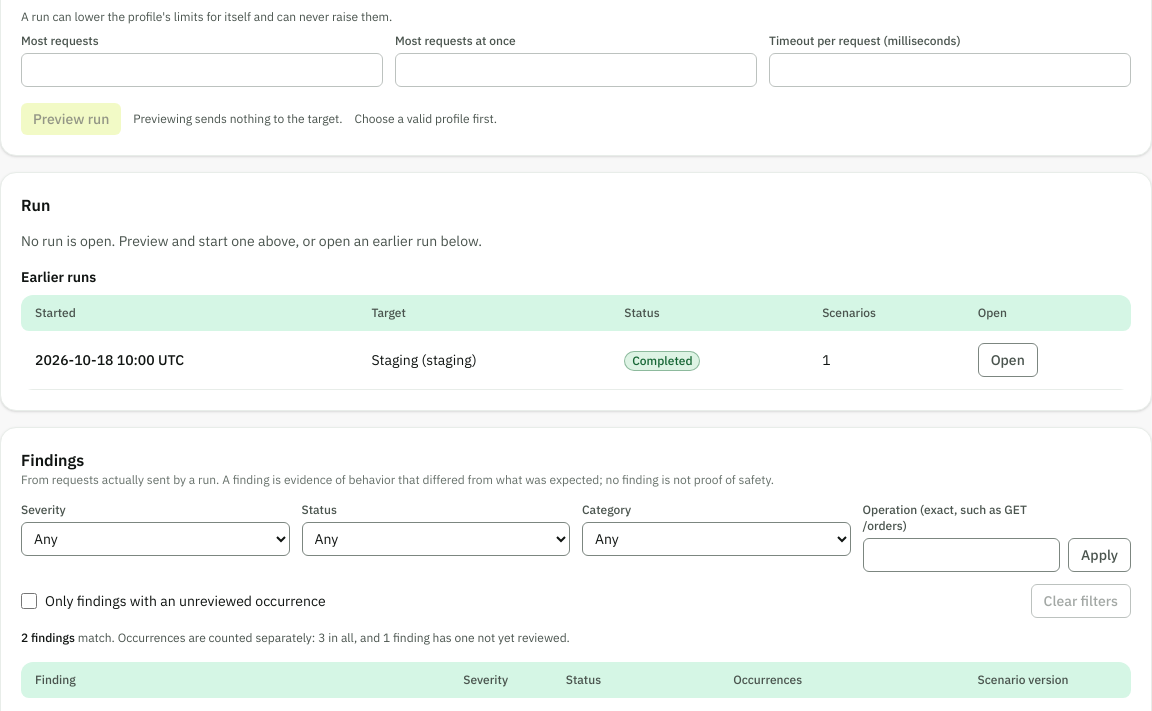
it: ExecutionArea findings (T124, FR-054 to FR-059) › run results › links each result to its scenario, and a failed result to its finding
(page scrolled)
Click the button with aria-label "Open the run started" at (1008, 360), box [978,343,1038,377]
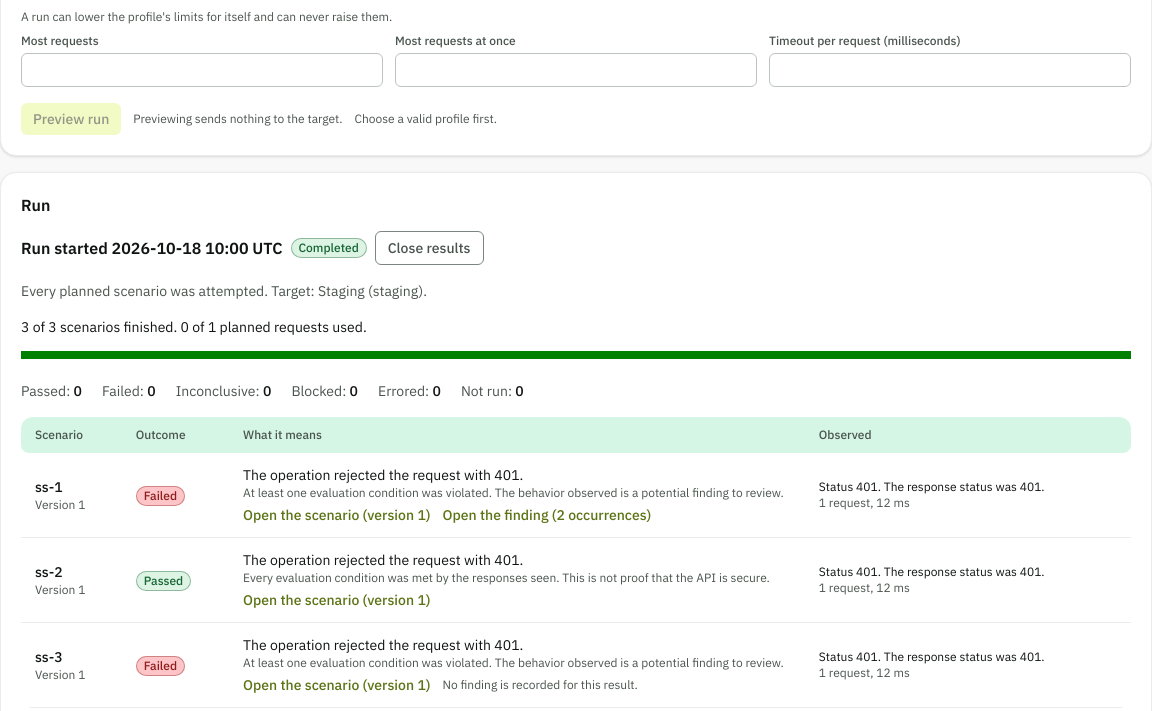
Expected: the element with test id "run-progress" is shown
Expected: the number of rows with test id "run-result-row" is 3, [21,453,1131,538]; [21,538,1131,622]; [21,622,1131,708]
Expected: the button with aria-label "Open the scenario for this result (version 1)" is shown, [243,505,430,525]
